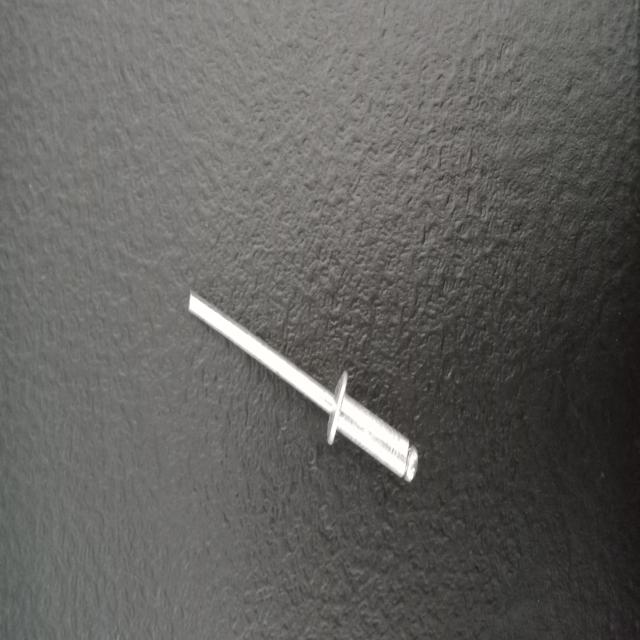rivet: (187, 290, 418, 482)
